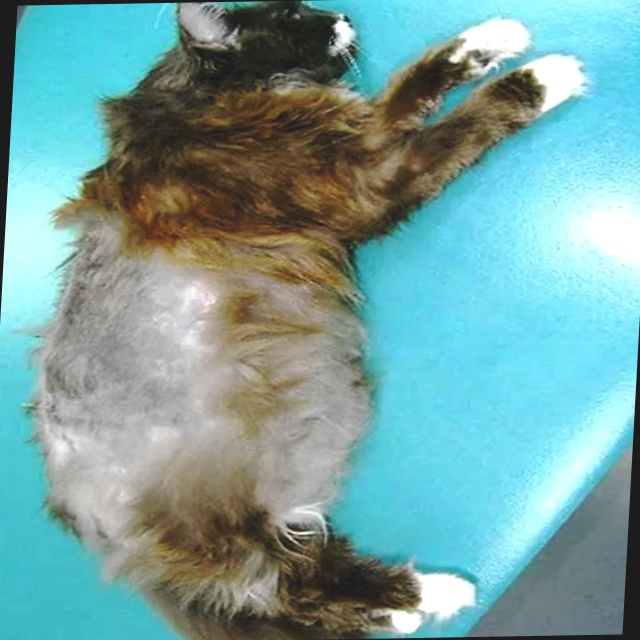hairloss: (46, 246, 195, 535), (251, 301, 353, 503)
